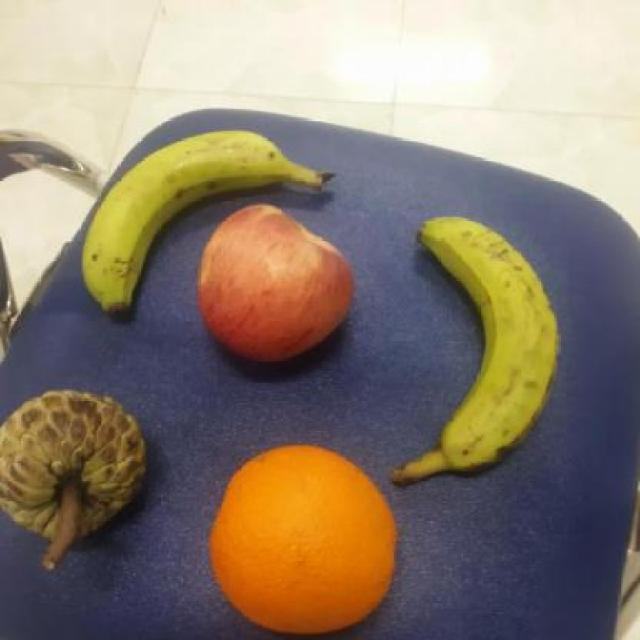apple: (194, 202, 358, 369)
banana: (79, 126, 290, 317), (413, 213, 567, 473)
oren: (210, 444, 404, 634)
sugar apple: (1, 386, 150, 540)
